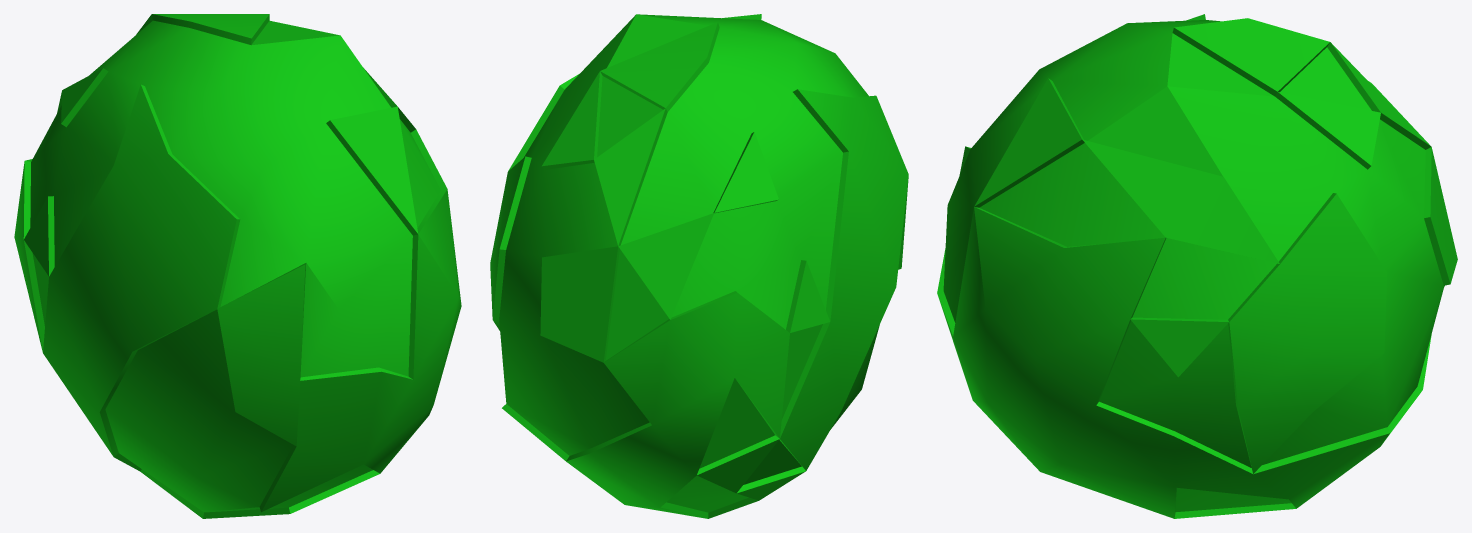
File: bush_007.fbx
The picture shows the model from 3 angles, left to right: view 1: azimuth 30°, elevation 25°; view 2: azimuth 150°, elevation 25°; view 3: azimuth 270°, elevation 25°; orthographic projection. The views are drawn at different scales.
Visible parts, largest first — view 1: bush.007; view 2: bush.007; view 3: bush.007.
Boxes of the visible parts, x1=… form: bush.007: x1=14, y1=14, x2=461, y2=518; bush.007: x1=490, y1=14, x2=908, y2=518; bush.007: x1=937, y1=14, x2=1457, y2=518.
Bounding box in the file's own units: 169 × 222 × 217.
